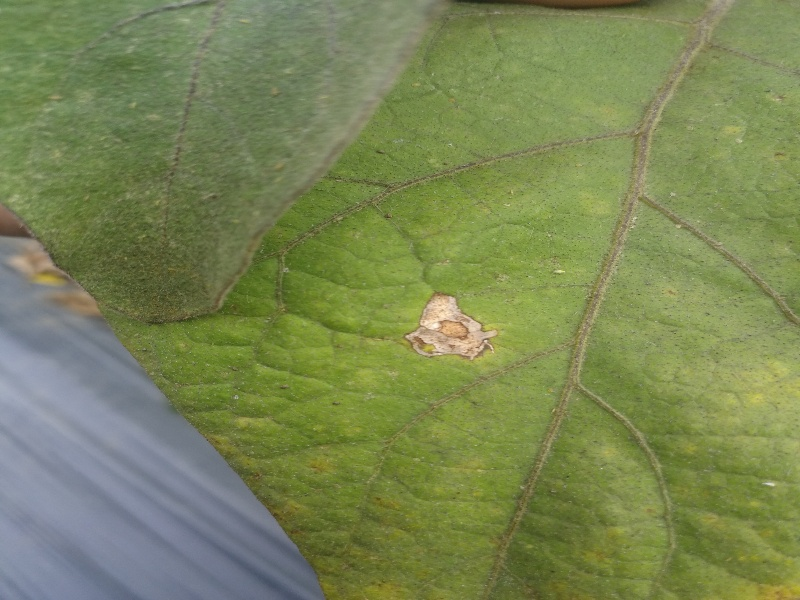leafminer: (388, 284, 515, 387)
